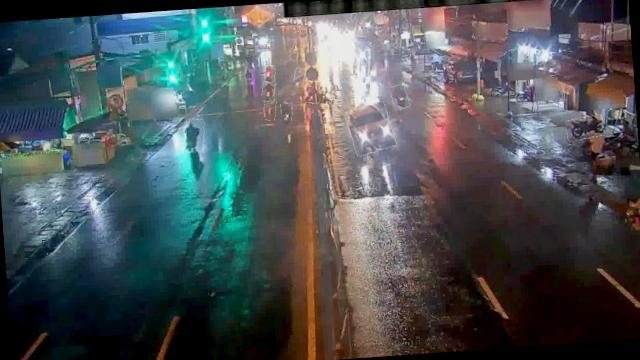Bike: (565, 115, 605, 140), (183, 118, 206, 152), (303, 80, 333, 104), (389, 84, 408, 109), (262, 98, 276, 120), (260, 81, 274, 102), (278, 103, 292, 122), (293, 67, 305, 87), (264, 64, 276, 82)
Car: (346, 102, 394, 155)
